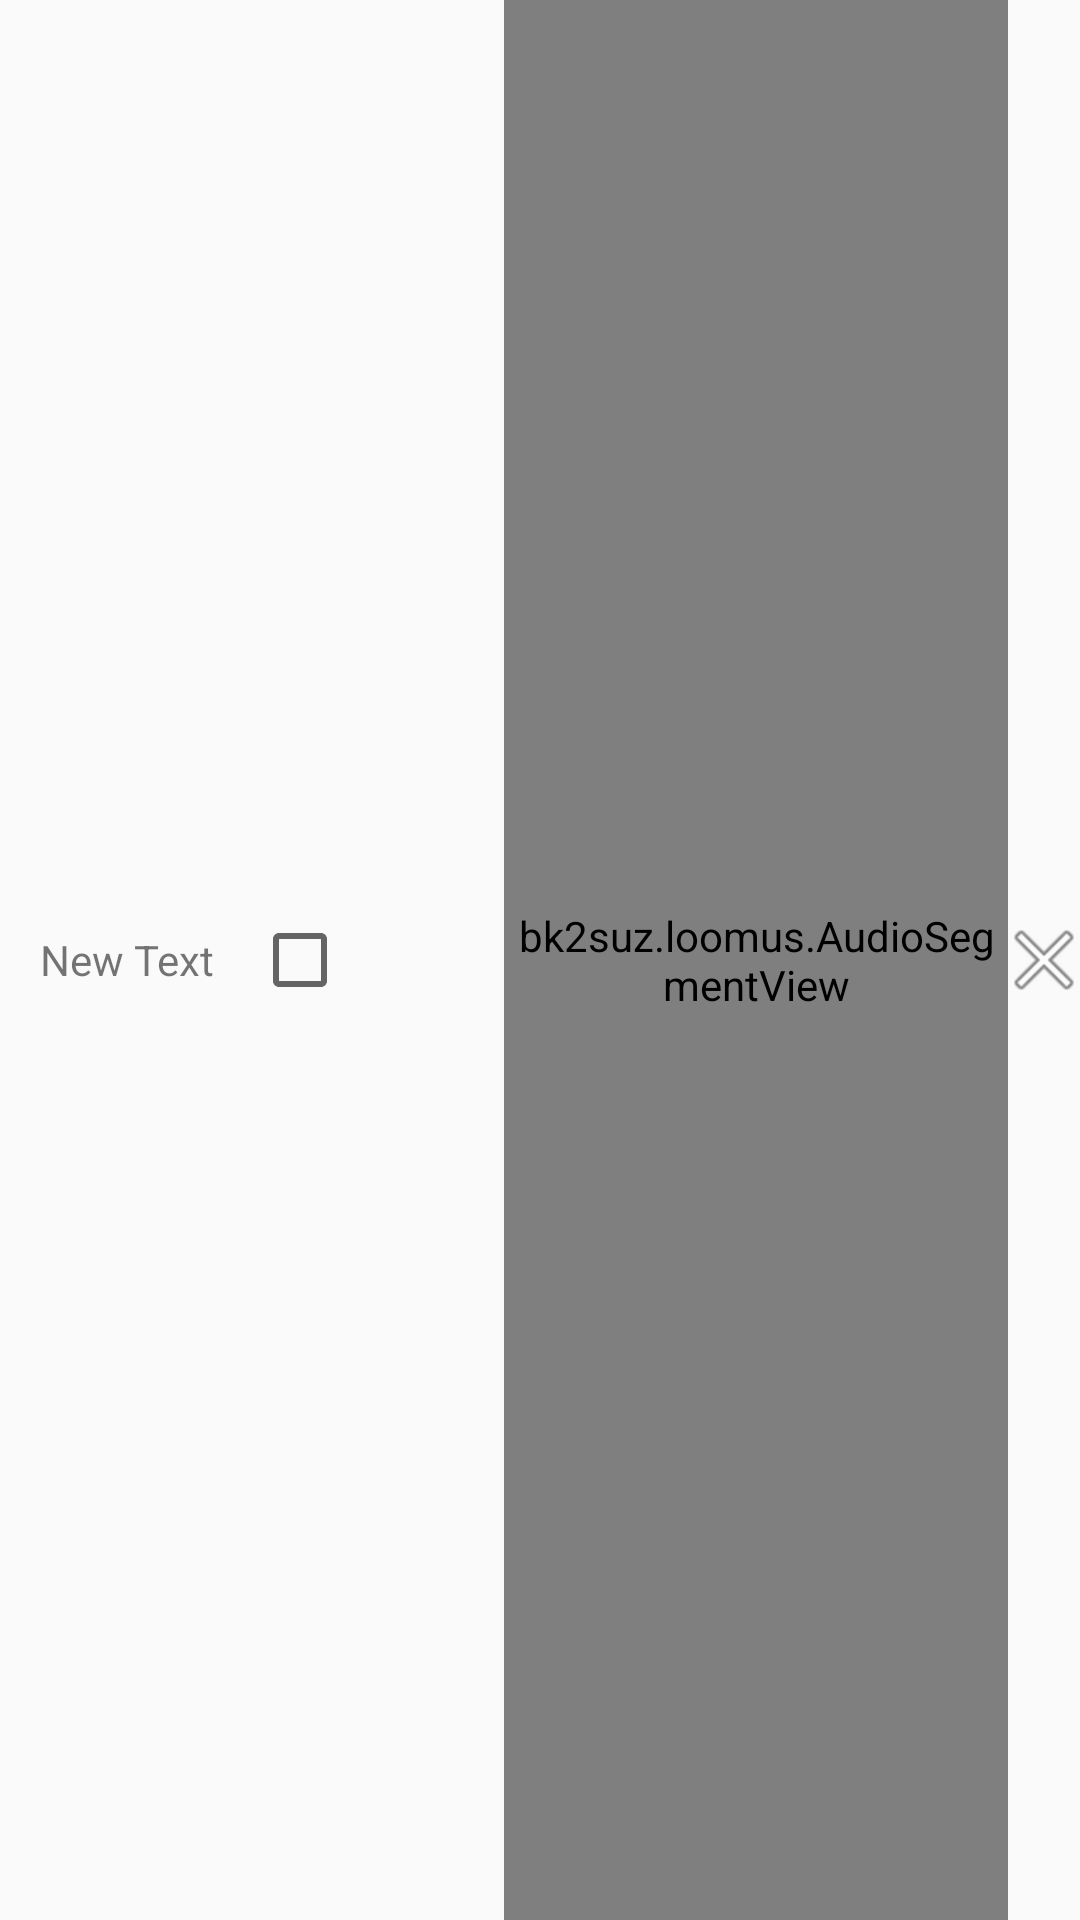

Icons on this 1080*1920 Android screen, each with its box as (x1, y1, x2, y2):
close clear cancel: (1014, 930, 1074, 990)
